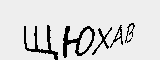А: (108, 22, 125, 54)
В: (124, 19, 138, 44)
Х: (90, 23, 112, 56)
Щ: (20, 22, 57, 60)
Ю: (63, 24, 94, 58)
